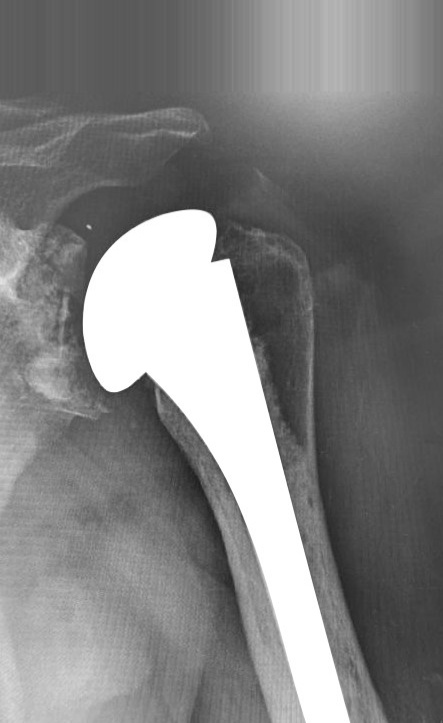Shoulder - Anotomyhead - Stryker: (77, 205, 253, 417)
Shoulder - Anotomytail - Stryker: (136, 247, 305, 495)
